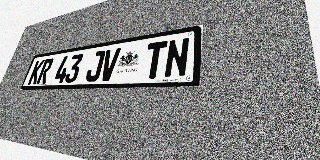3: (64, 53, 84, 83)
4: (53, 55, 72, 83)
J: (84, 50, 106, 82)
K: (27, 59, 45, 85)
N: (163, 37, 190, 78)
R: (36, 58, 54, 84)
T: (142, 40, 168, 79)
V: (98, 48, 121, 81)
